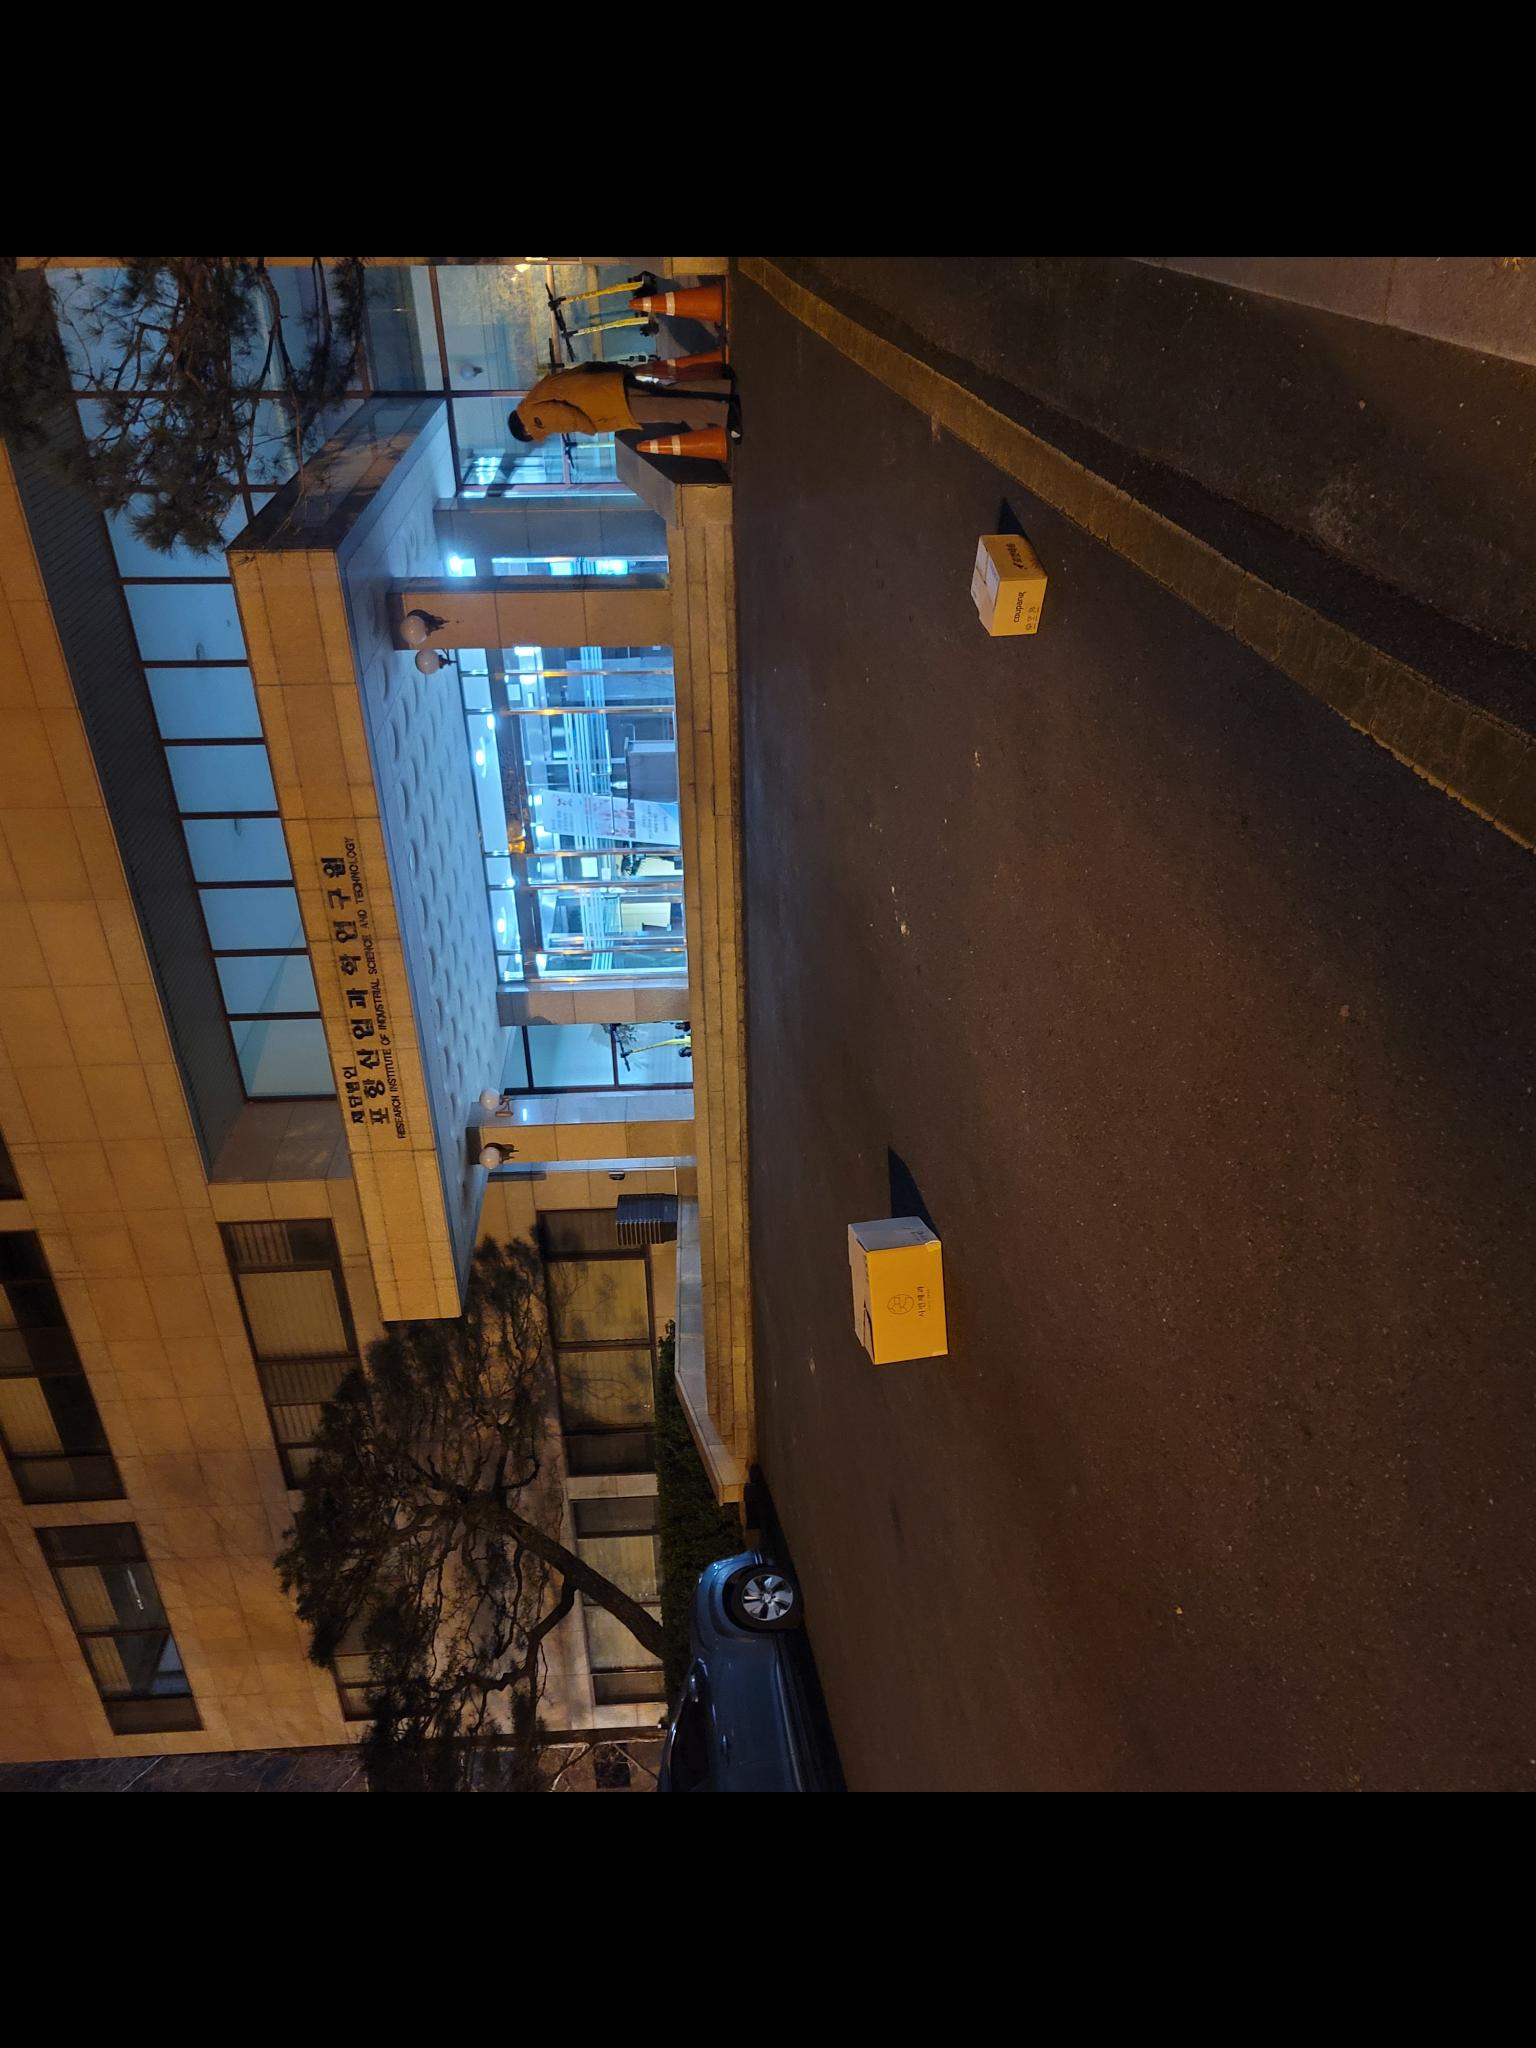Box: (833, 1206, 949, 1369), (957, 534, 1065, 648)
